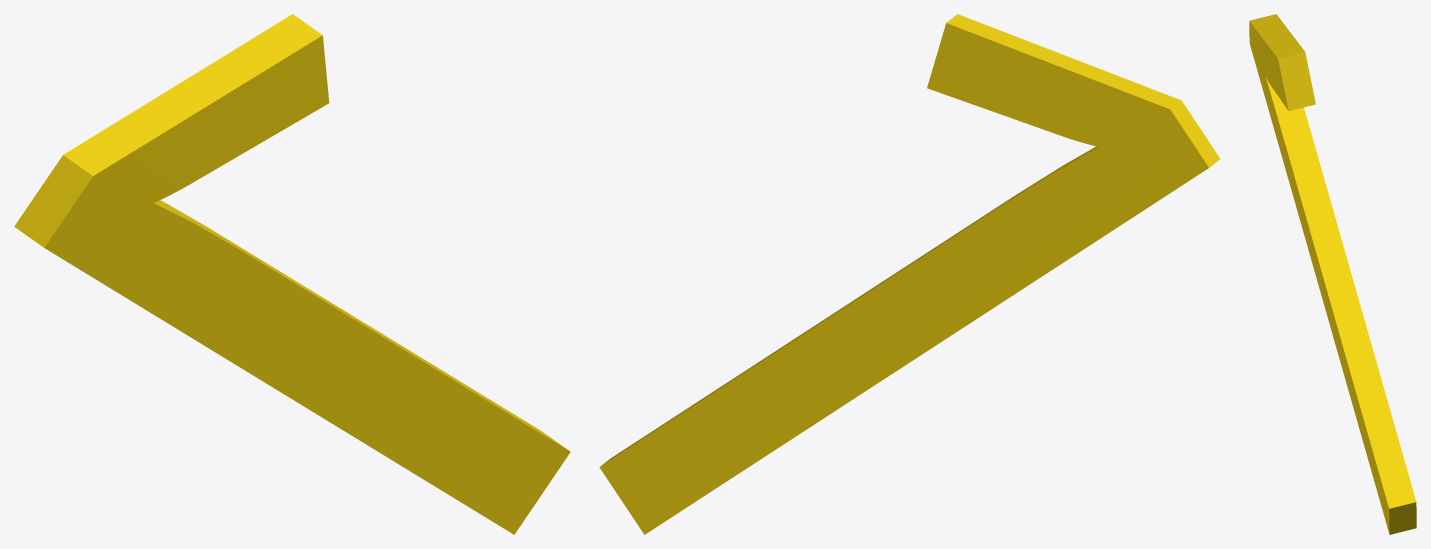
File: Number_1.gltf
3 views of the same model, side by side, from view 1: azimuth 30°, elevation 25°; view 2: azimuth 150°, elevation 25°; view 3: azimuth 270°, elevation 25° (orthographic). The views are drawn at different scales.
Parts seen in each view (by area): view 1: Sub_4_Cell_3_3_Number_1; view 2: Sub_4_Cell_3_3_Number_1; view 3: Sub_4_Cell_3_3_Number_1.
Boxes of the visible parts, x1,y1,x2,y2 form: Sub_4_Cell_3_3_Number_1: (14,14,570,534); Sub_4_Cell_3_3_Number_1: (599,14,1220,534); Sub_4_Cell_3_3_Number_1: (1249,14,1416,534).
Size of the model in its own units: 0.0207 by 0.0196 by 0.00754.
